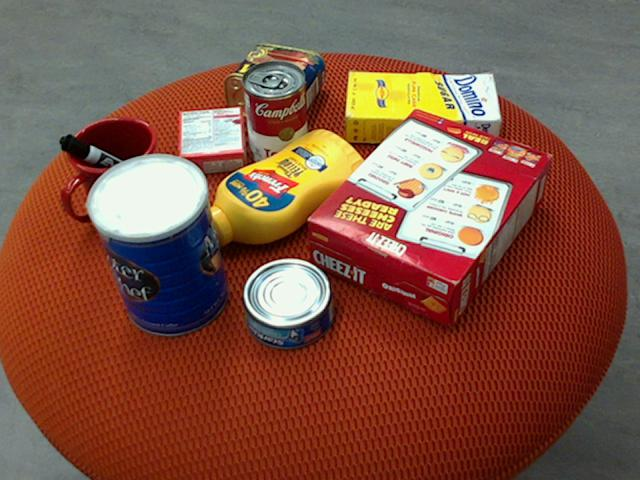cracker_box: (307, 107, 553, 325)
gelatin_box: (177, 105, 245, 175)
large_marker: (58, 134, 161, 194)
master_chef_can: (83, 154, 228, 336)
mug: (63, 116, 165, 224)
mustard_bottle: (190, 129, 369, 245)
potted_meat_can: (224, 43, 326, 124)
sugar_box: (345, 72, 502, 143)
tomato_soup_can: (242, 59, 308, 169)
tuna_fish_can: (242, 259, 335, 350)
